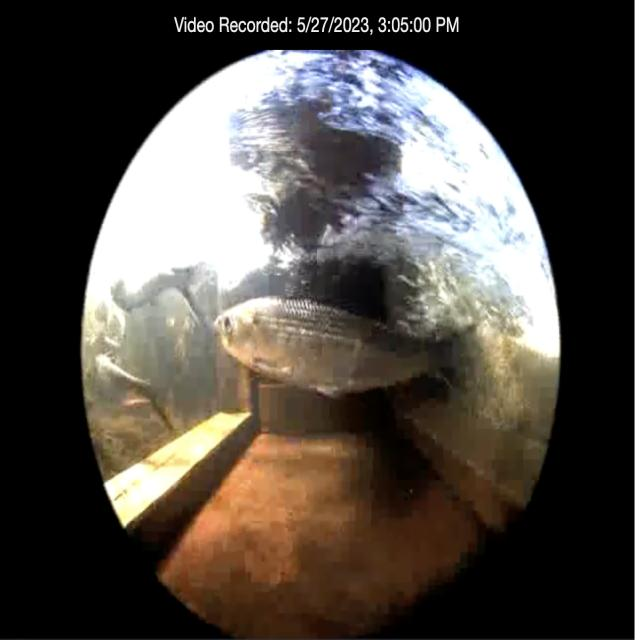fish: (216, 297, 467, 396), (112, 260, 209, 323), (96, 355, 174, 428)
